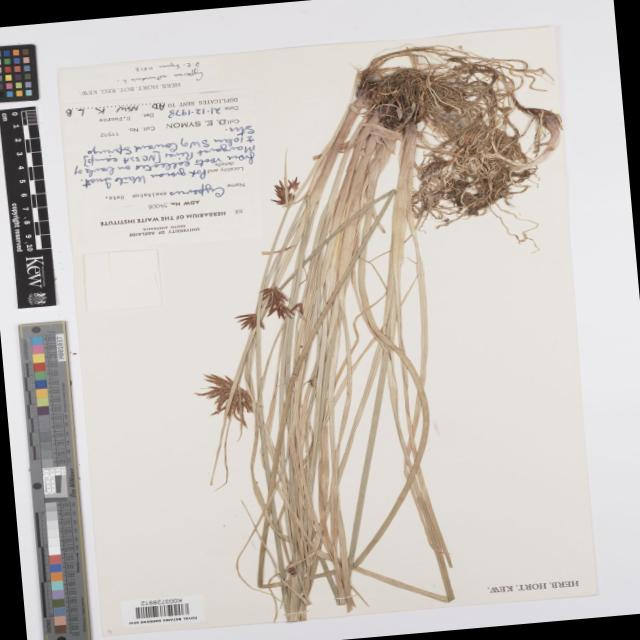cyperus: (223, 276, 310, 338), (194, 361, 264, 430), (263, 174, 308, 212)
